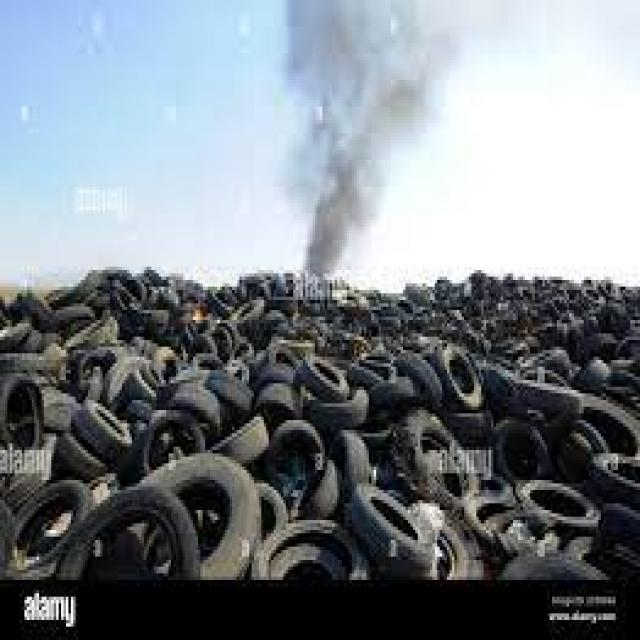Rubber -Non-Biodegradable but Recyclable-: (1, 260, 640, 598)
